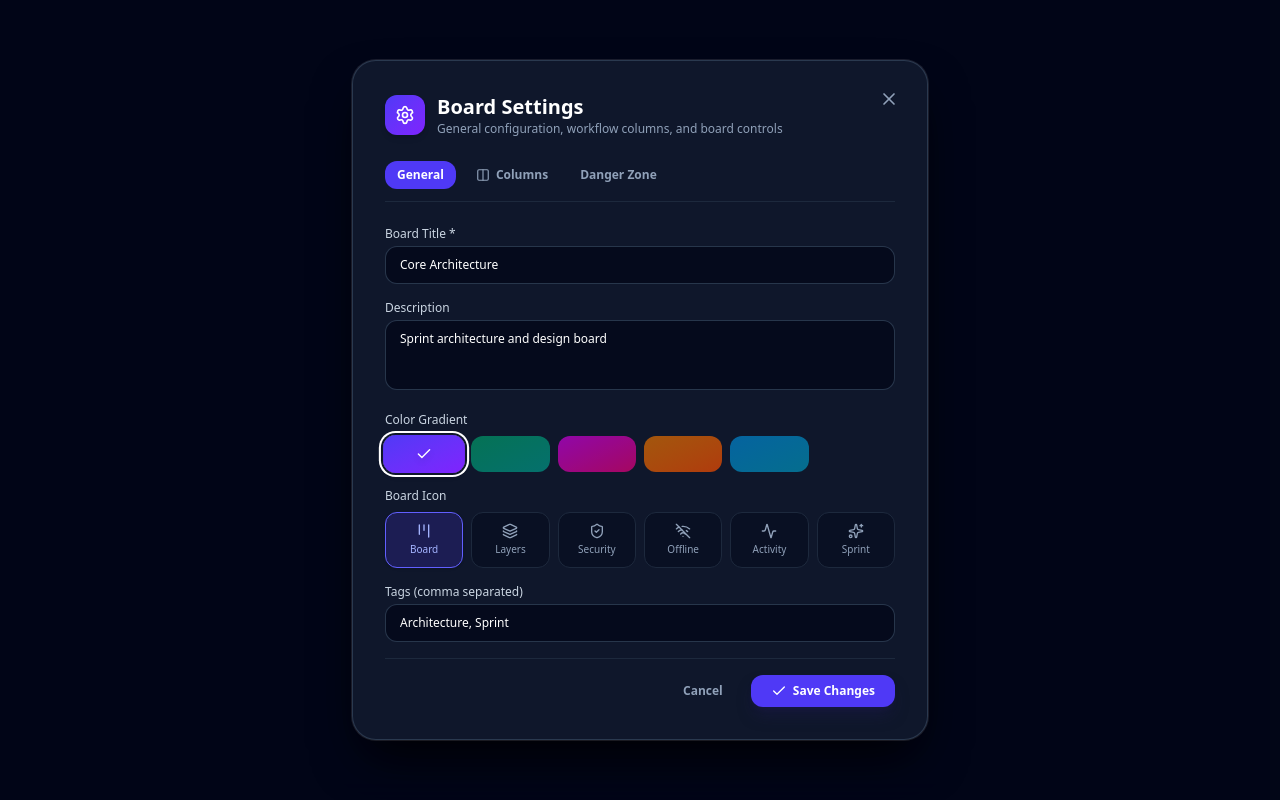
BoardSettingsModal Component › renders general settings tab and updates board metadata on form submit
Expected: the heading "Board Settings" is shown, [437,93,584,120]
Replace the text in the field showing "Core Architecture" below "Board Title *" with "Updated Core Architecture". click: coordinates (640, 265)
box: [385,246,895,284]
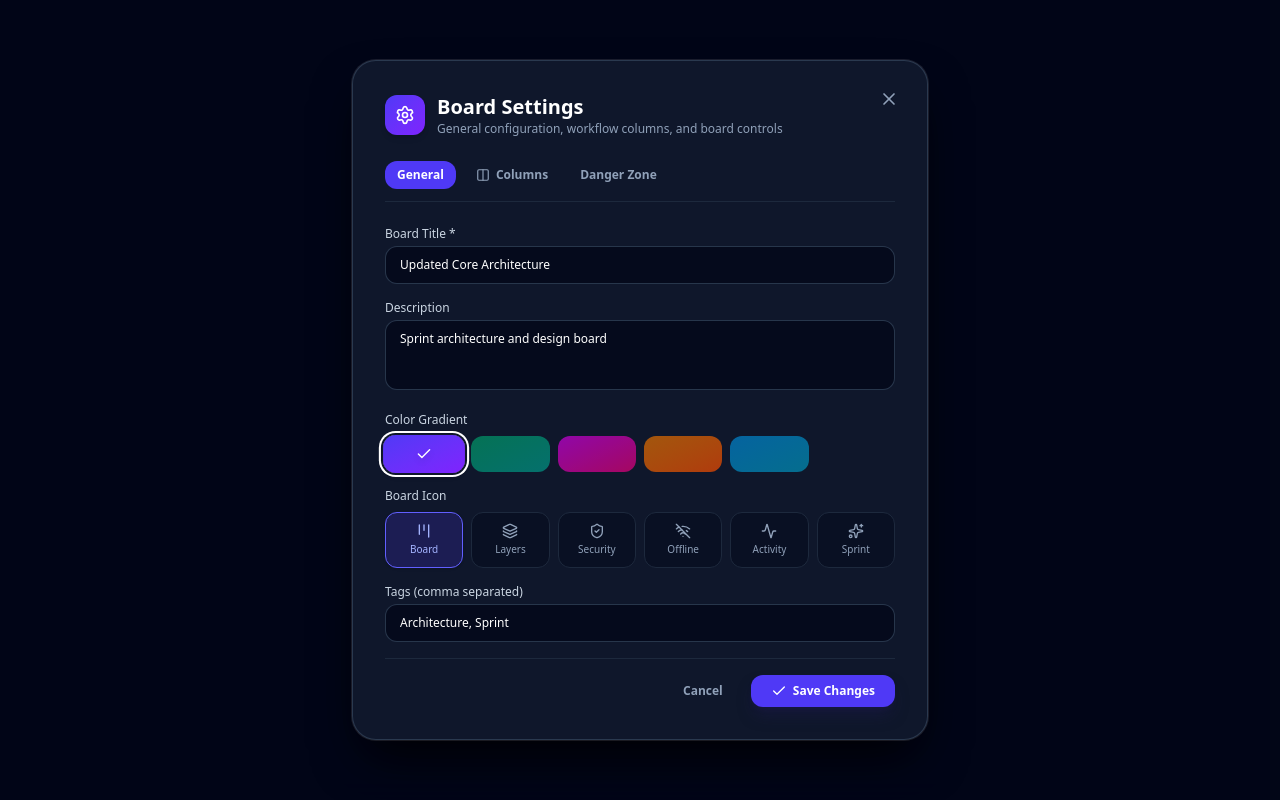
Replace the text in the text box showing "Sprint architecture and design board" with "Updated description". click: coordinates (640, 355)
box: [385,320,895,390]
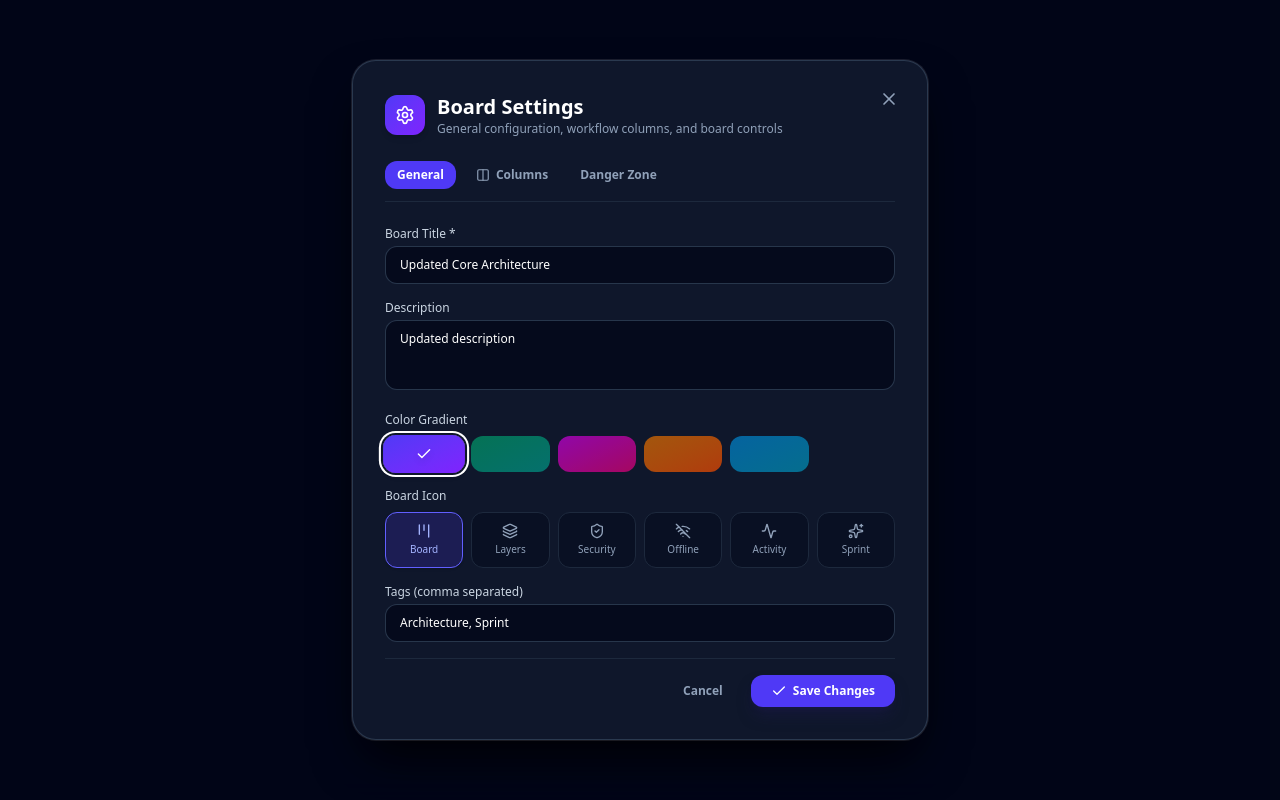
Click the button "Save Changes". click: coordinates (823, 691)
box: [751,675,895,707]
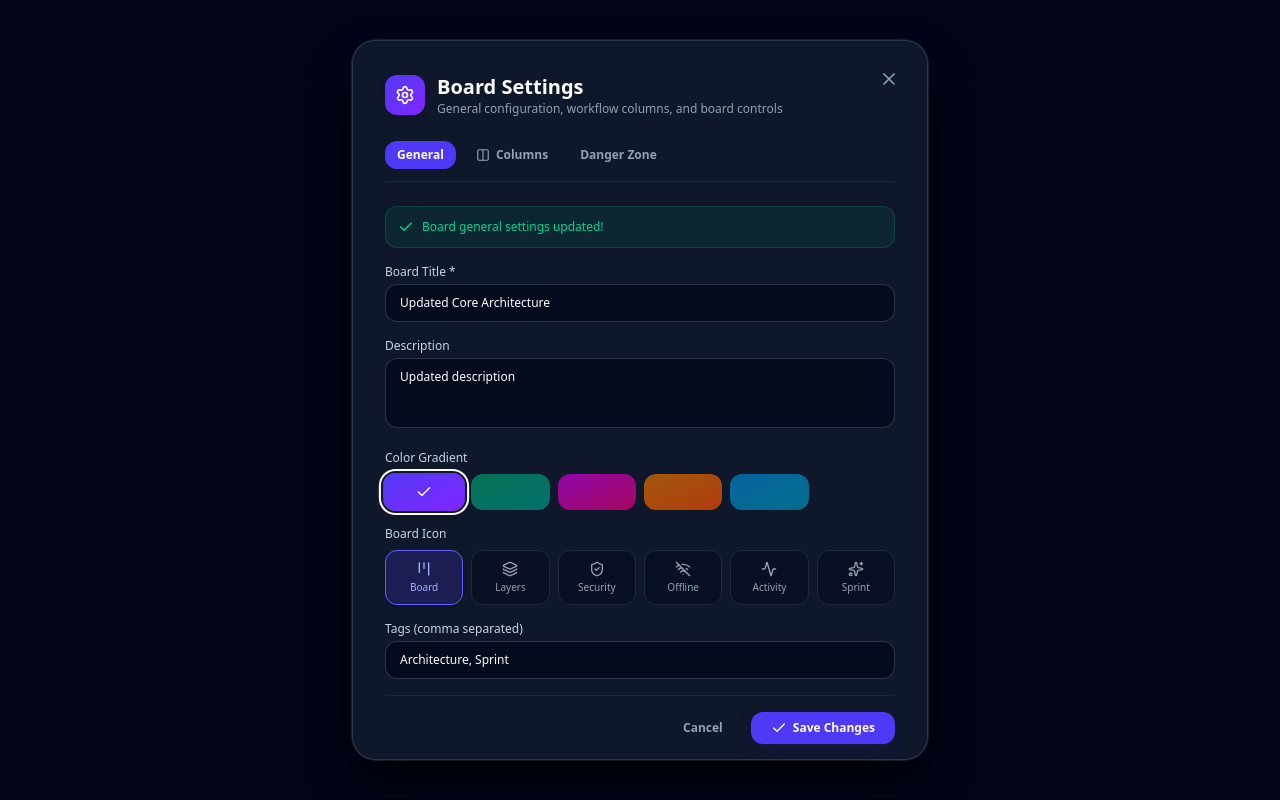
Expected: the text "Board general settings updated!" is shown, [422,219,604,235]
